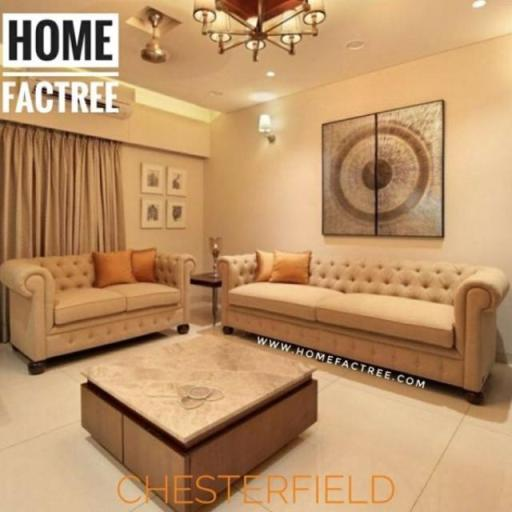sofa: (237, 208, 505, 418), (0, 226, 234, 364)
